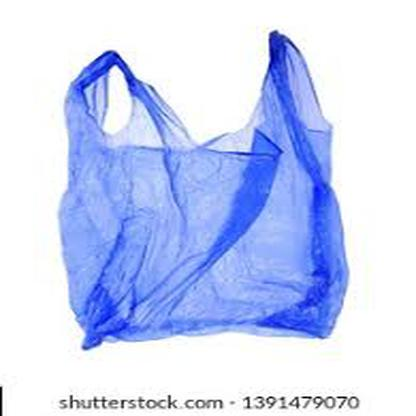plastic bag: (57, 29, 350, 350)
